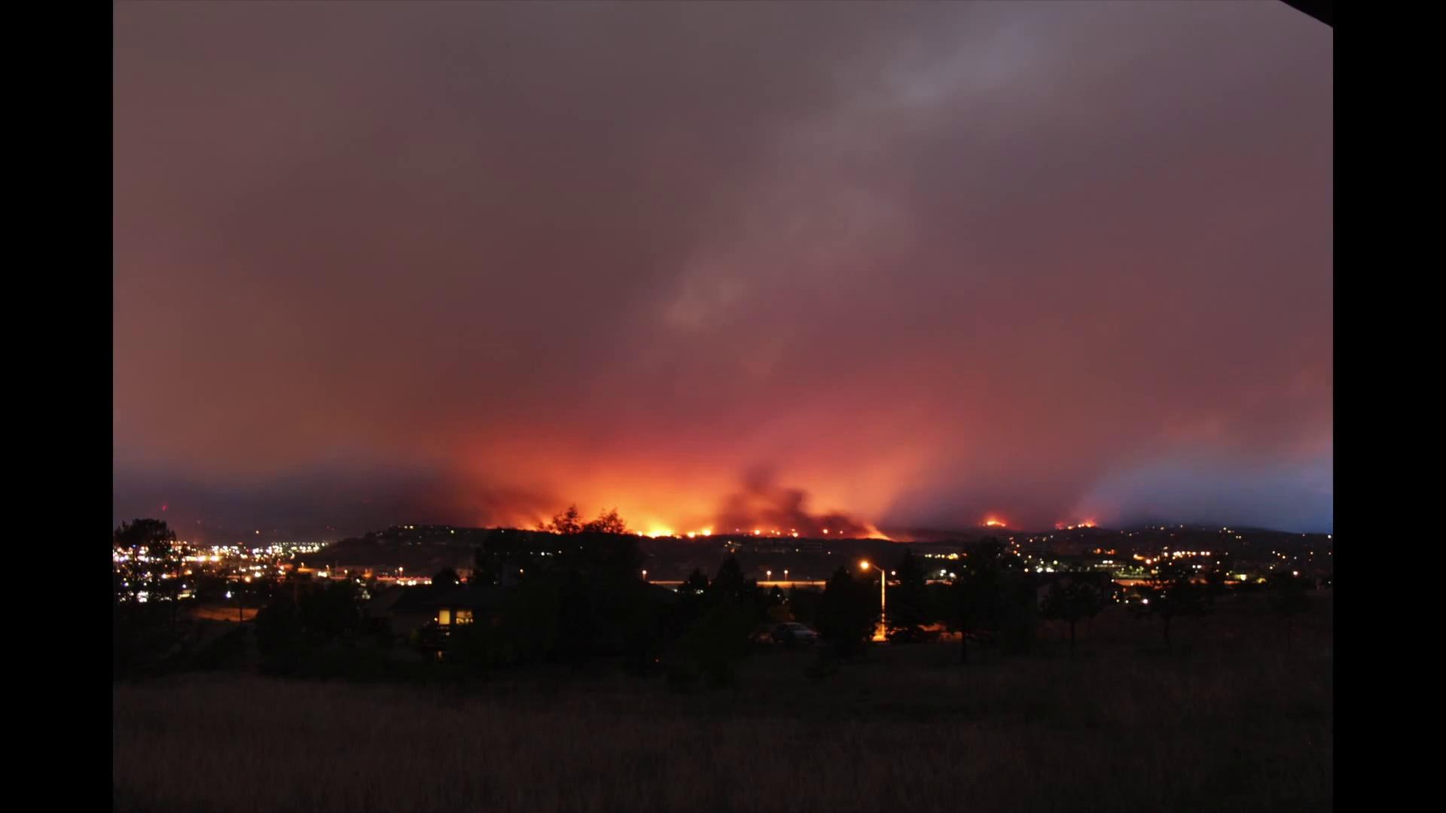fire: (634, 519, 712, 539), (513, 510, 559, 534), (752, 526, 799, 537), (1068, 516, 1096, 529), (984, 513, 1008, 528)
